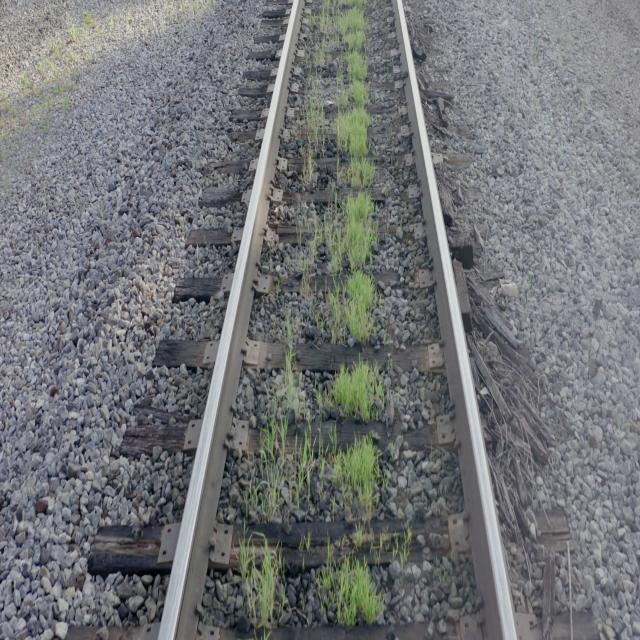Plant: (310, 0, 378, 342), (319, 553, 381, 624), (319, 360, 389, 422), (240, 549, 289, 633), (330, 436, 380, 518), (261, 409, 288, 516), (302, 73, 326, 180), (291, 440, 314, 498), (285, 349, 298, 407)
